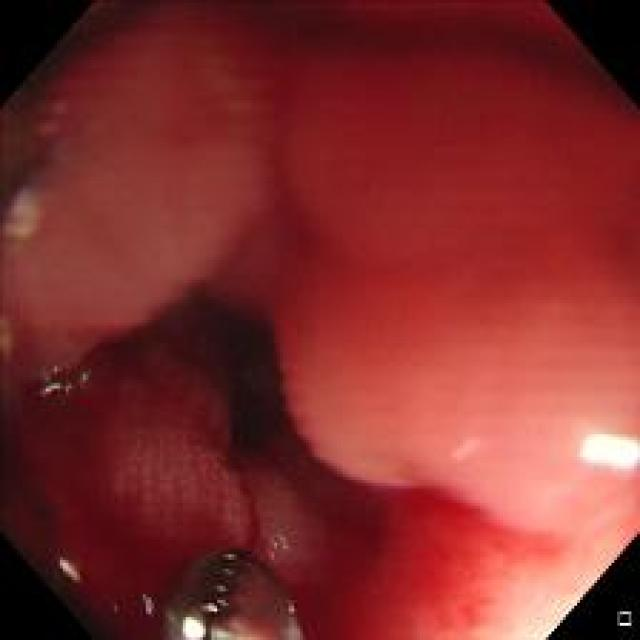blood: (255, 435, 530, 634)
blur: (2, 2, 634, 532)
color misalignment: (28, 352, 98, 405), (259, 522, 298, 572), (134, 588, 161, 622)
contrast: (160, 290, 291, 498)
saturation: (494, 554, 575, 632)
specularity: (572, 414, 639, 496), (51, 548, 88, 585), (174, 604, 211, 639)
